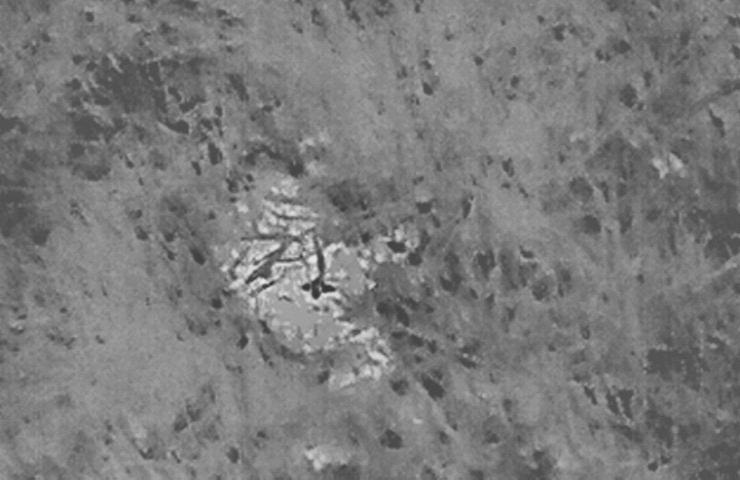landmines: (225, 170, 427, 392)
